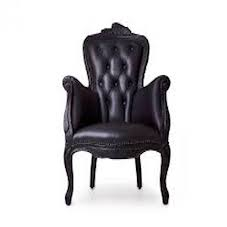chair: (46, 15, 199, 217)
